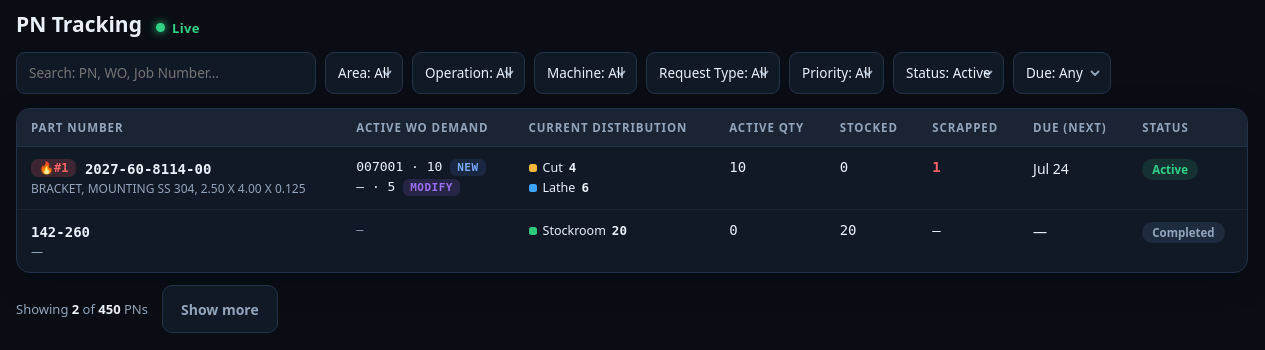
Show more widens the page to the server bound and then asks to narrow the search
The width and height of the screenshot is (1265, 350).
Expected: the message with class "tk-paging" shows "Showing 2 of 450 PNs", [16,285,278,333]
Click the button "Show more" at (220, 309), box [162,285,278,333]
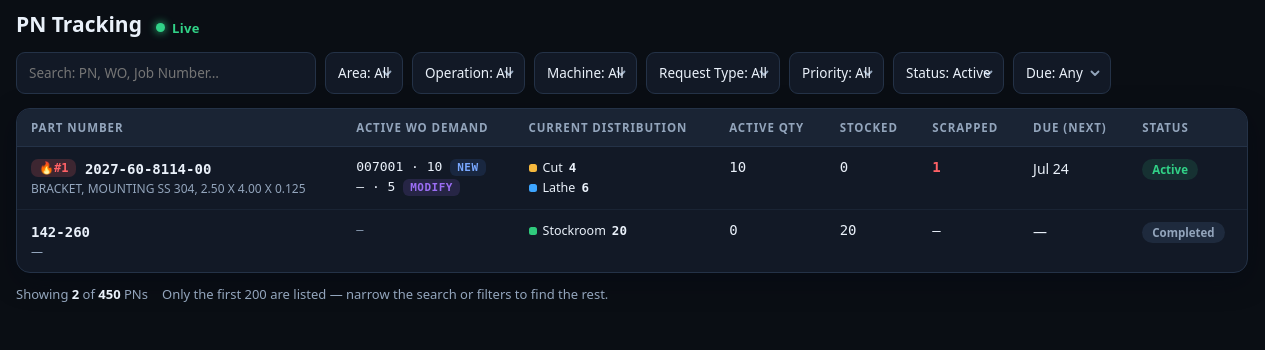
Now the button "Show more" is gone
Now the text "Only the first 200 are listed" is shown, box [162,285,608,303]
